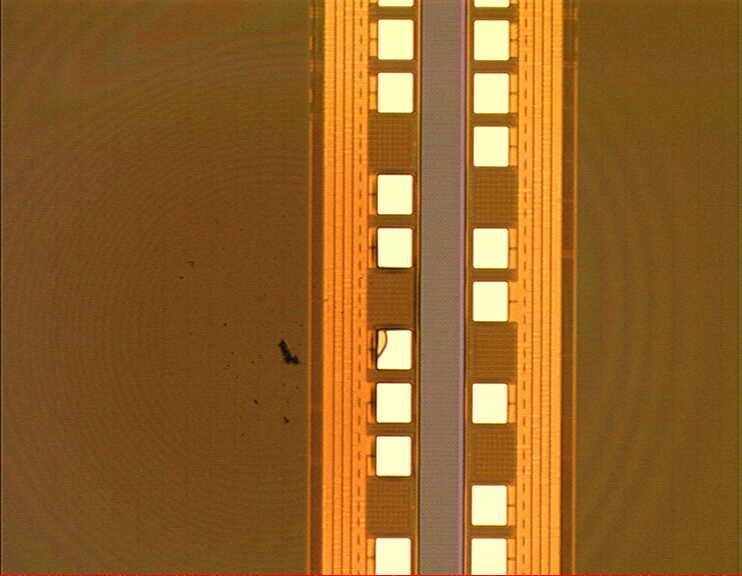PIQ PARTICLE: (172, 251, 310, 433)
